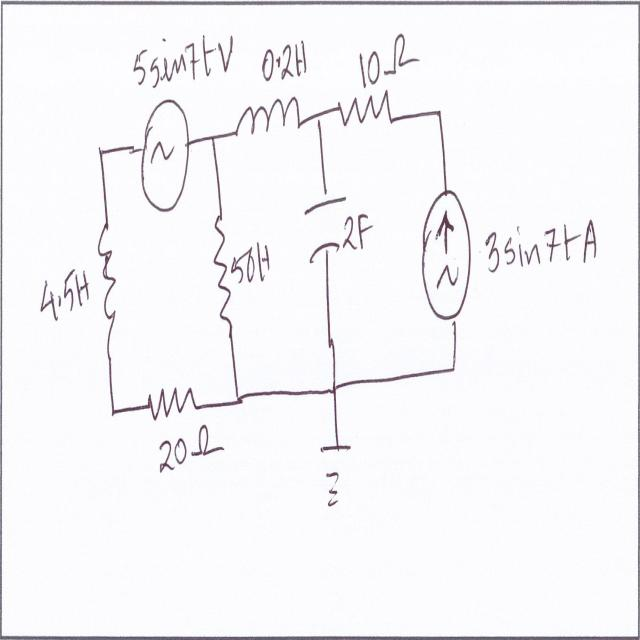ac_current: (136, 95, 191, 222)
capacitor: (300, 187, 348, 272)
current_source: (418, 182, 477, 325)
ground: (319, 433, 356, 525)
inductor: (231, 88, 307, 142), (92, 214, 125, 335)
resistor: (212, 207, 238, 338), (140, 378, 200, 429), (333, 90, 401, 131)
